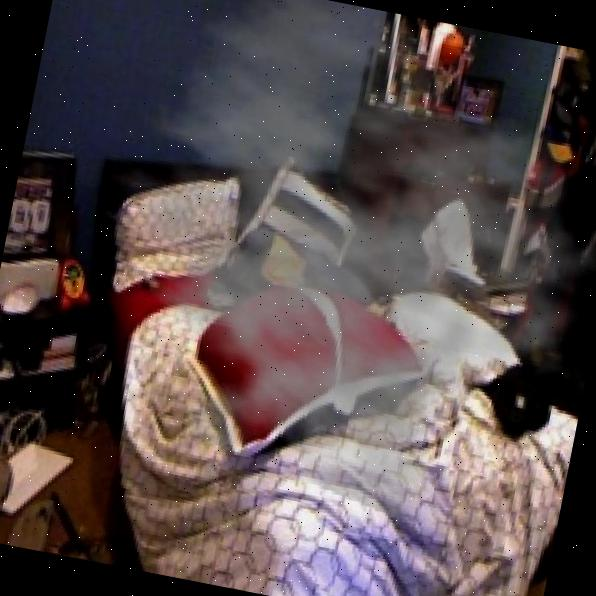smoke: (36, 0, 596, 554)
